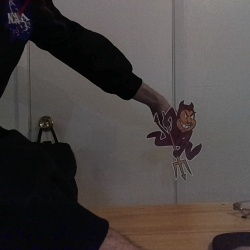sparky: (144, 99, 202, 182)
